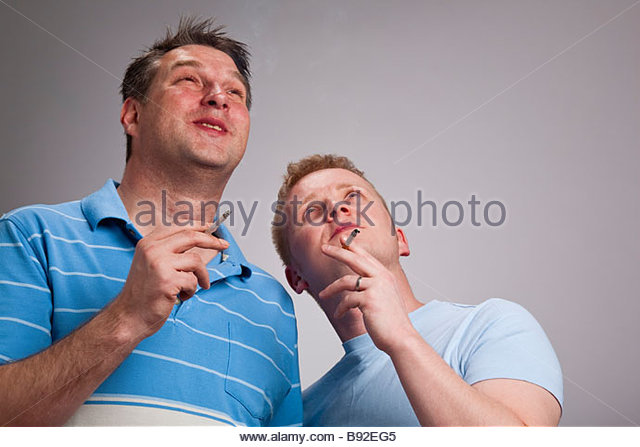ci: (206, 211, 238, 233), (342, 229, 361, 248)
